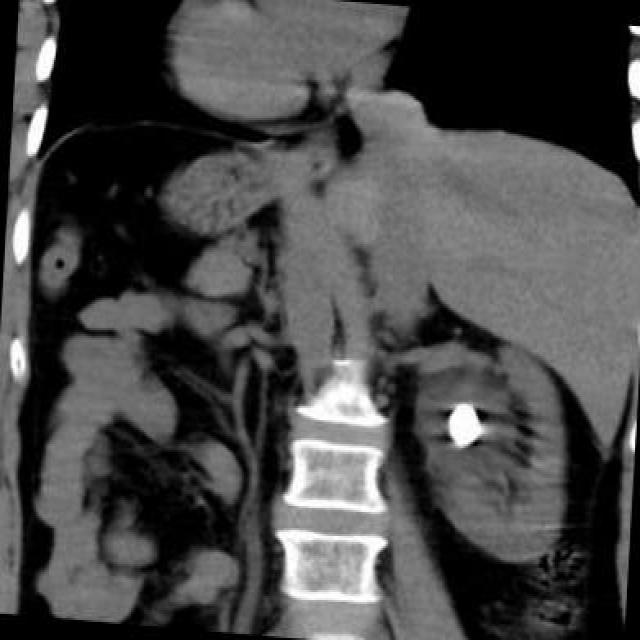Tas_Var: (442, 393, 484, 459)
